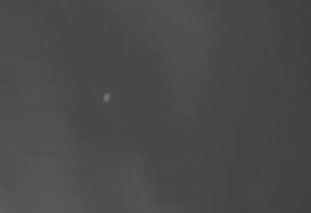Target: (104, 94, 110, 101)
